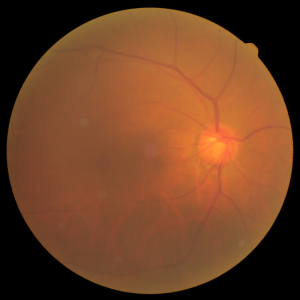healthy_eye: (62, 89, 268, 208)
